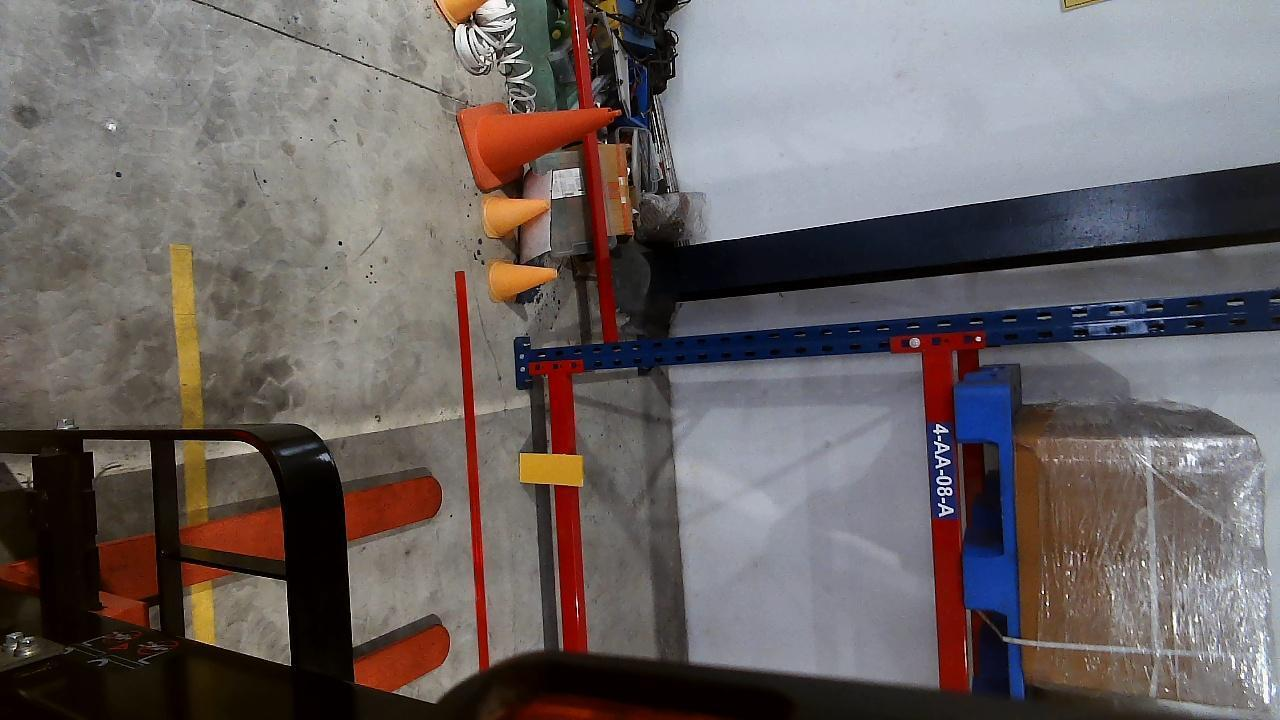red_line: (454, 272, 491, 657)
yellow_line: (176, 244, 213, 642)
